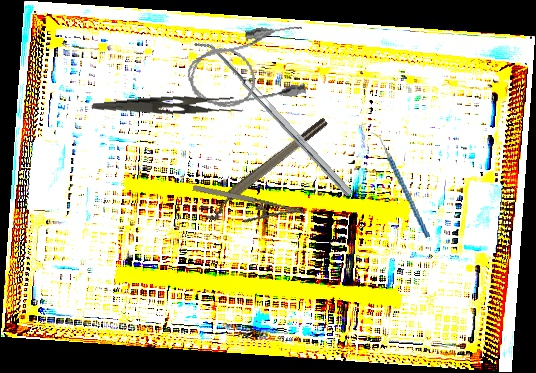Cannula: (180, 19, 316, 117)
Chopper: (368, 126, 431, 244)
Dressing Forceps: (90, 89, 245, 127)
Fixation Ring: (199, 115, 334, 224)
Needle Holder: (187, 181, 308, 237)
Spatula Surgical: (193, 32, 353, 203)
